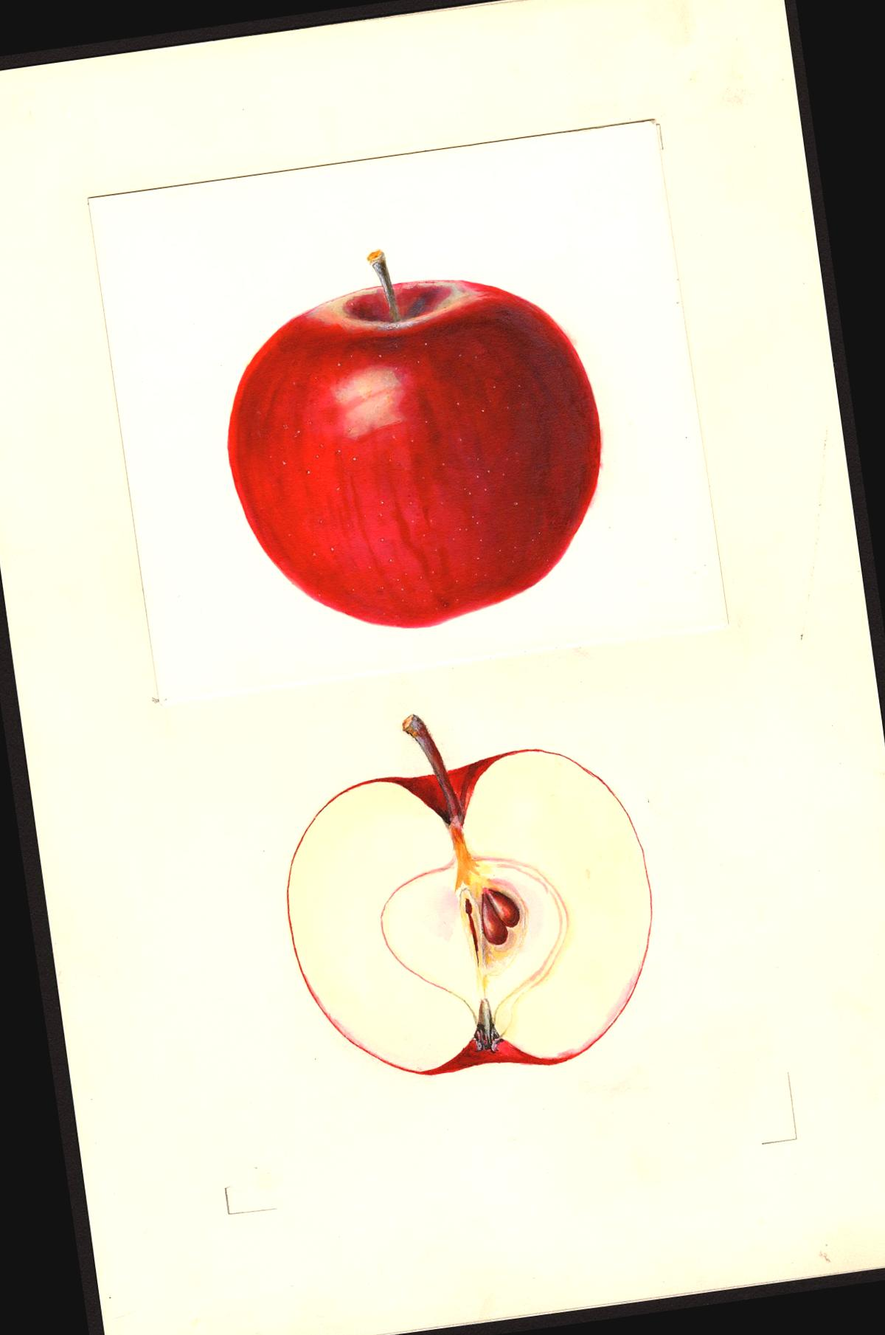Apple Ripe: (157, 194, 666, 681)
